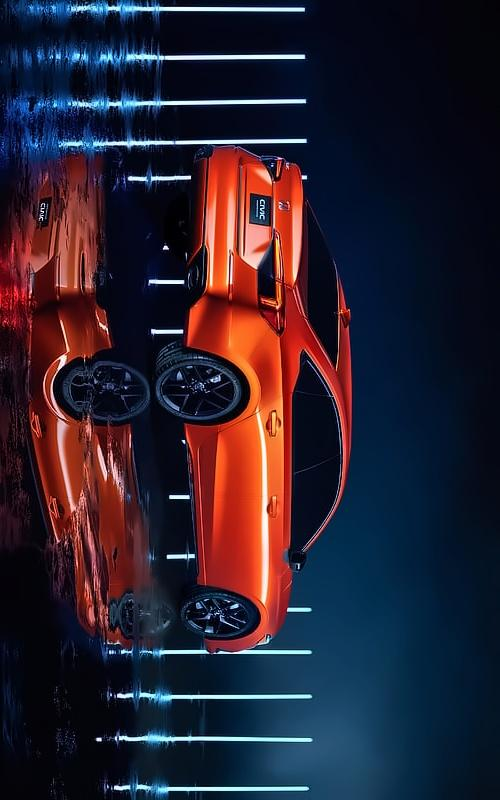Car boot: (226, 149, 312, 318)
Driver-s door - -F-R-: (203, 481, 348, 563)
Fender - -F-R-: (191, 564, 292, 635)
Fender - -R-R-: (168, 301, 296, 426)
Front bumper: (195, 627, 289, 666)
Passenger-s door - -R-R-: (203, 390, 352, 478)
Rear bumper: (185, 142, 258, 364)
Rear light - -L-: (247, 137, 296, 187)
Rear light - -R-: (253, 223, 295, 340)
Side bumper - -R-: (179, 420, 211, 601)
Side mirror - -R-: (275, 543, 316, 579)
